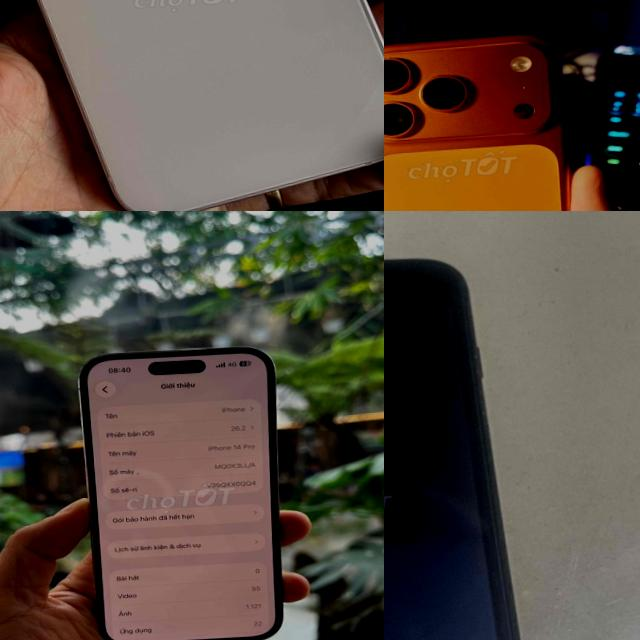gen_12_13: (0, 0, 384, 211)
gen_14: (63, 335, 302, 640)
gen_17: (384, 14, 603, 211)
gen_7_8: (384, 231, 569, 640)
